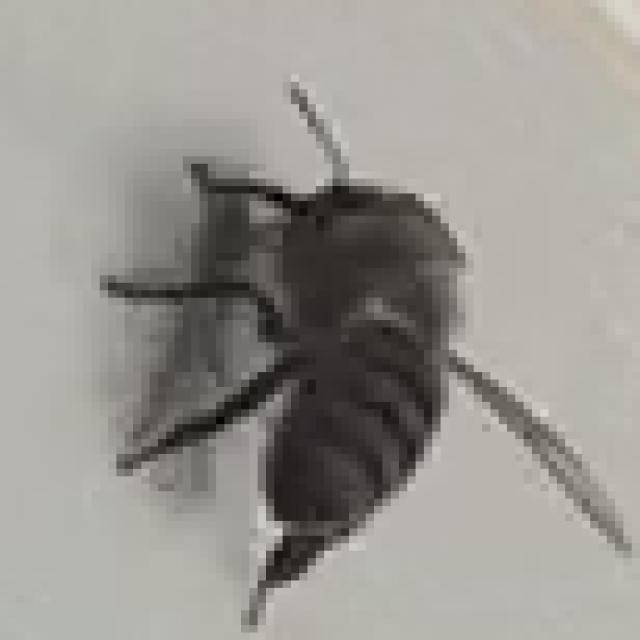honeybee: (116, 125, 530, 579)
